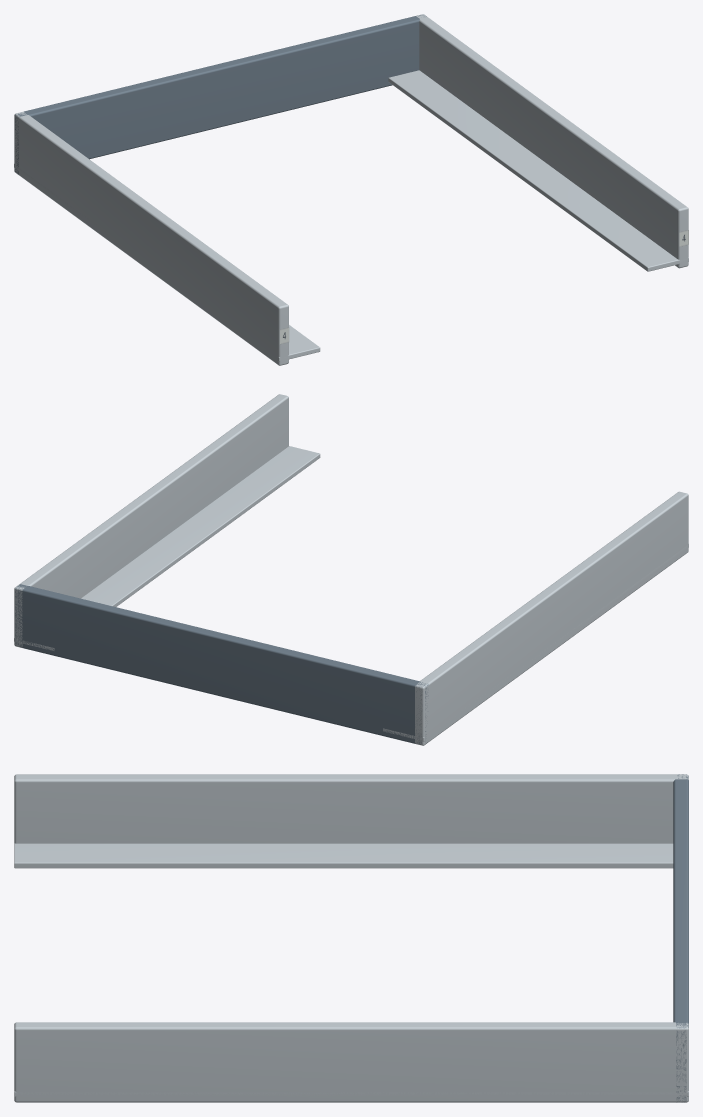
File: SLOT4.glb
The picture shows the model from 3 angles, top to bottom: view 1: azimuth 30°, elevation 25°; view 2: azimuth 150°, elevation 25°; view 3: azimuth 270°, elevation 25°; orthographic projection. The views are drawn at different scales.
Visible parts, largest first — view 1: SLOT4/0006_back_stop, SLOT4/0000_rail_wall, SLOT4/0003_rail_wall, SLOT4/0004_rail_support, SLOT4/0001_rail_support; view 2: SLOT4/0006_back_stop, SLOT4/0000_rail_wall, SLOT4/0003_rail_wall, SLOT4/0004_rail_support, SLOT4/0001_rail_support; view 3: SLOT4/0003_rail_wall, SLOT4/0000_rail_wall, SLOT4/0001_rail_support, SLOT4/0006_back_stop, SLOT4/0004_rail_support.
Boxes of the visible parts, x1,y1,x2,y2 form: SLOT4/0006_back_stop: (15, 15, 426, 174); SLOT4/0000_rail_wall: (14, 111, 288, 365); SLOT4/0003_rail_wall: (416, 14, 688, 268); SLOT4/0004_rail_support: (388, 70, 688, 271); SLOT4/0001_rail_support: (14, 164, 320, 361); SLOT4/0006_back_stop: (15, 584, 428, 744); SLOT4/0000_rail_wall: (415, 491, 688, 745); SLOT4/0003_rail_wall: (14, 394, 288, 647); SLOT4/0004_rail_support: (14, 446, 320, 650); SLOT4/0001_rail_support: (383, 544, 688, 741); SLOT4/0003_rail_wall: (14, 1022, 688, 1102); SLOT4/0000_rail_wall: (14, 774, 688, 843); SLOT4/0001_rail_support: (14, 843, 673, 868); SLOT4/0006_back_stop: (673, 774, 688, 1102); SLOT4/0004_rail_support: (14, 1091, 688, 1096).
Bounding box in the file's own units: 0.464 × 0.064 × 0.5202.
Materials: 4 (1 with a texture image).
